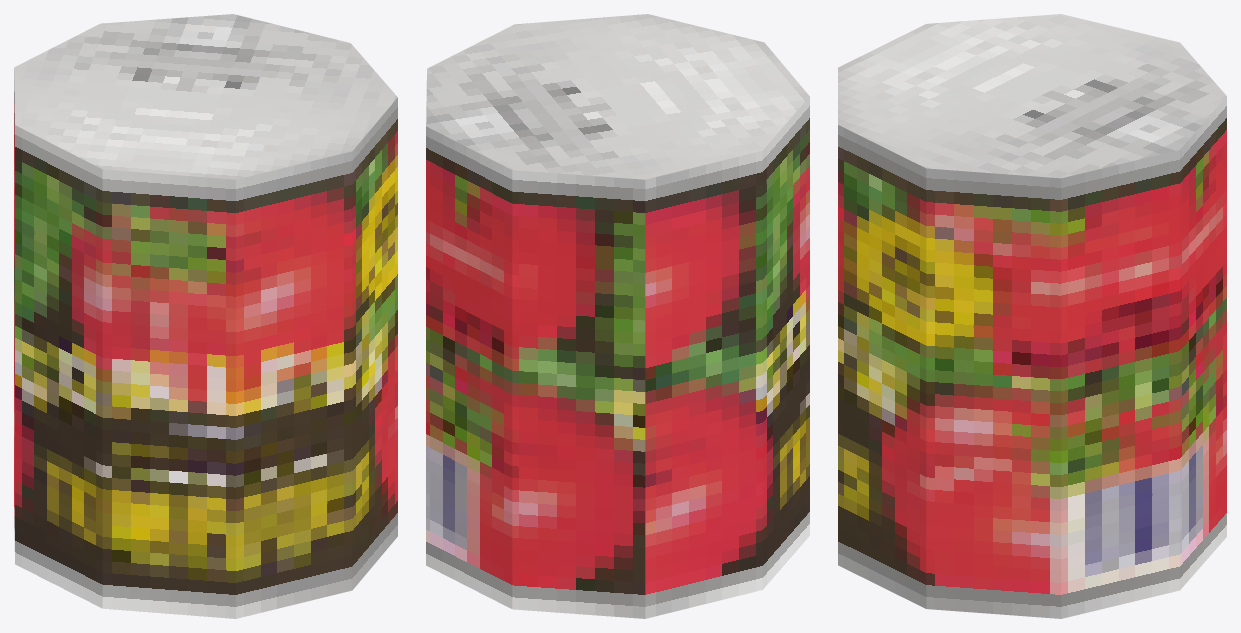
Rendered from food_canned_soup_8.glb.
The picture shows the model from 3 angles, left to right: view 1: azimuth 30°, elevation 25°; view 2: azimuth 150°, elevation 25°; view 3: azimuth 270°, elevation 25°; orthographic projection.
Parts seen in each view (by area): view 1: Food_Canned_Soup_8; view 2: Food_Canned_Soup_8; view 3: Food_Canned_Soup_8.
Part boxes in pixels (box(x1,y1,x2,y2)): Food_Canned_Soup_8: box(14, 14, 397, 618); Food_Canned_Soup_8: box(426, 14, 809, 618); Food_Canned_Soup_8: box(838, 14, 1226, 618).
Size of the model in its own units: 0.1016 by 0.127 by 0.1016.
Materials: 1 (1 with a texture image).
